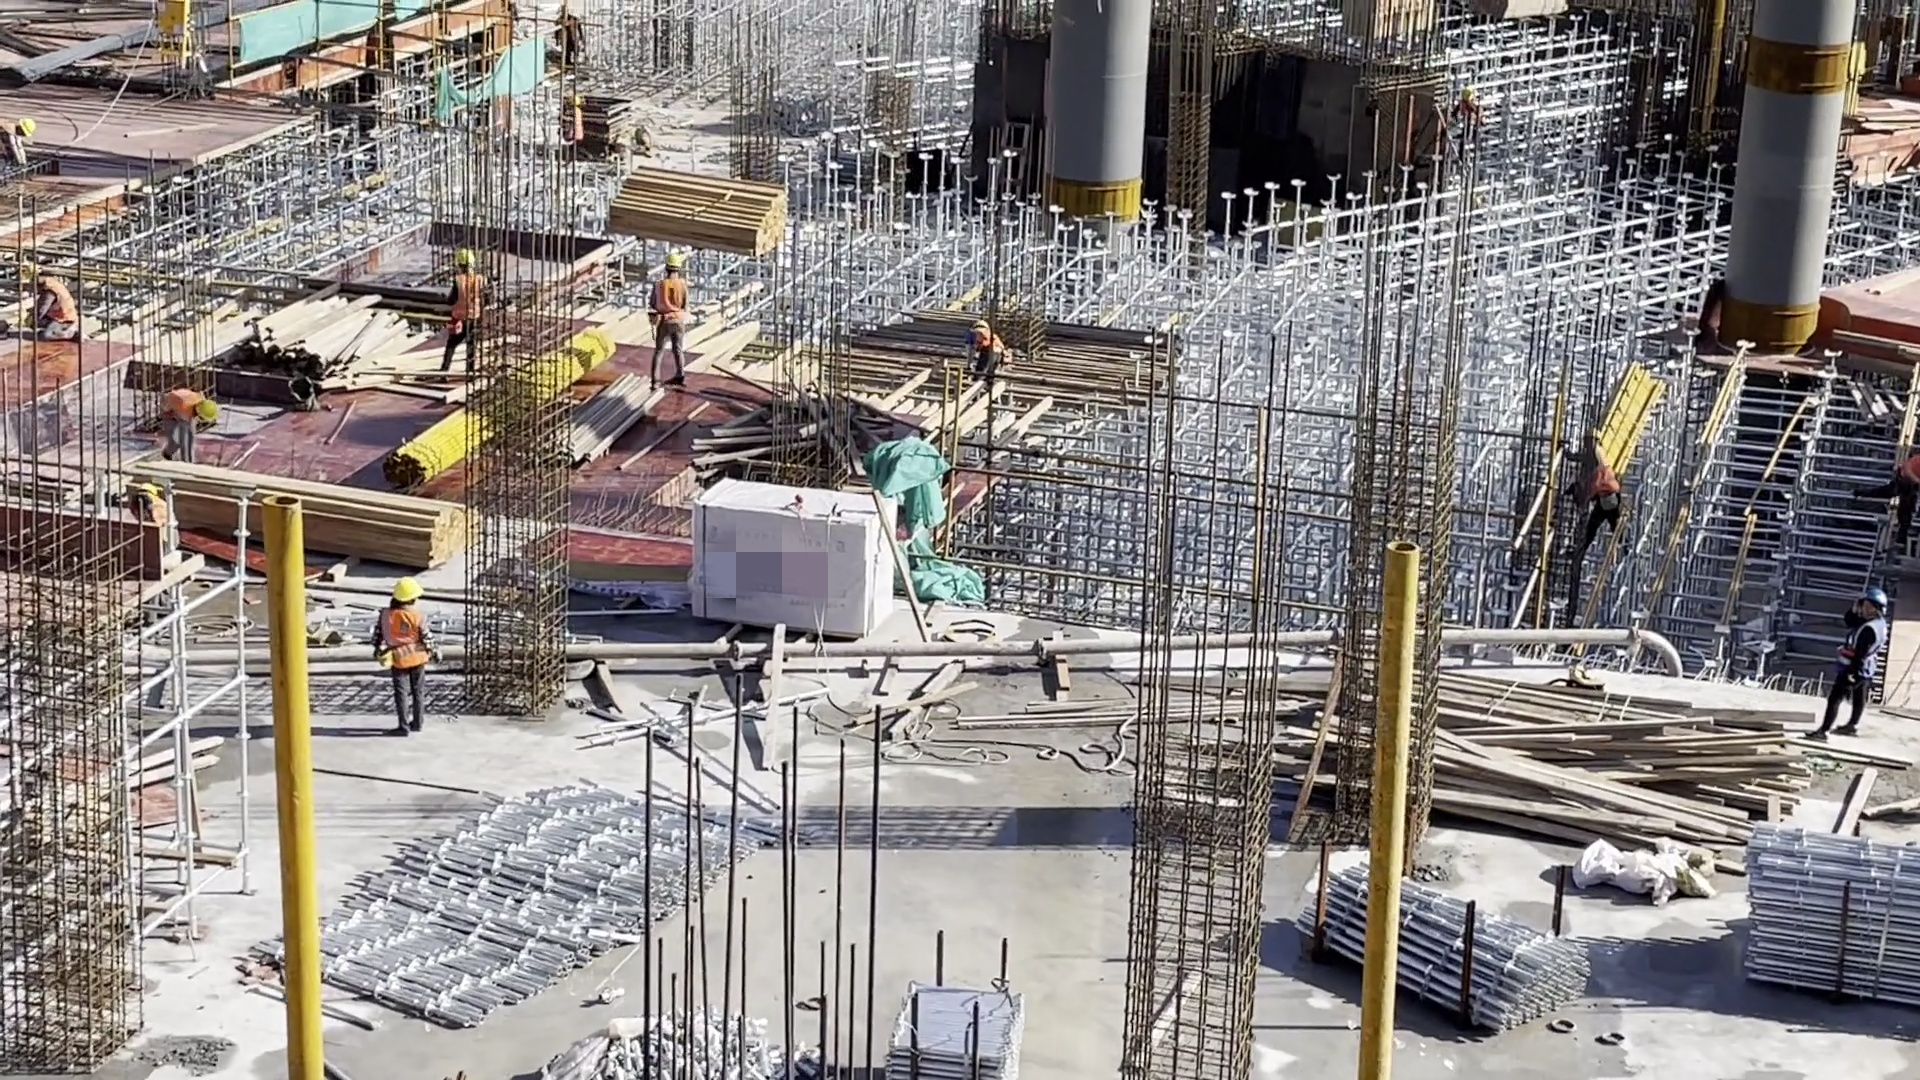helmet: (389, 572, 424, 602), (24, 258, 44, 283), (201, 395, 215, 425), (454, 251, 476, 266), (18, 115, 36, 134), (664, 254, 683, 270), (1862, 593, 1888, 604), (1458, 87, 1475, 98), (977, 317, 991, 327)
person: (375, 572, 438, 749), (1560, 428, 1624, 585), (1826, 591, 1888, 746), (649, 251, 694, 393), (154, 383, 217, 476), (445, 248, 486, 378), (21, 263, 85, 346), (968, 317, 1006, 374), (555, 8, 587, 66), (3, 112, 33, 165), (562, 97, 586, 145), (1454, 88, 1482, 128)
vest: (382, 606, 431, 671), (1840, 620, 1888, 682), (1579, 449, 1618, 499), (452, 271, 482, 324), (41, 278, 73, 327), (657, 278, 688, 325), (167, 391, 192, 424), (976, 331, 1002, 354), (3, 126, 21, 156)
